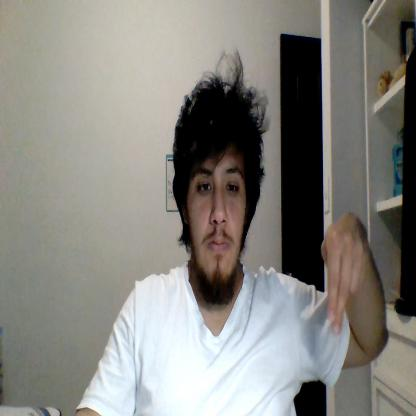N: (320, 211, 367, 336)
